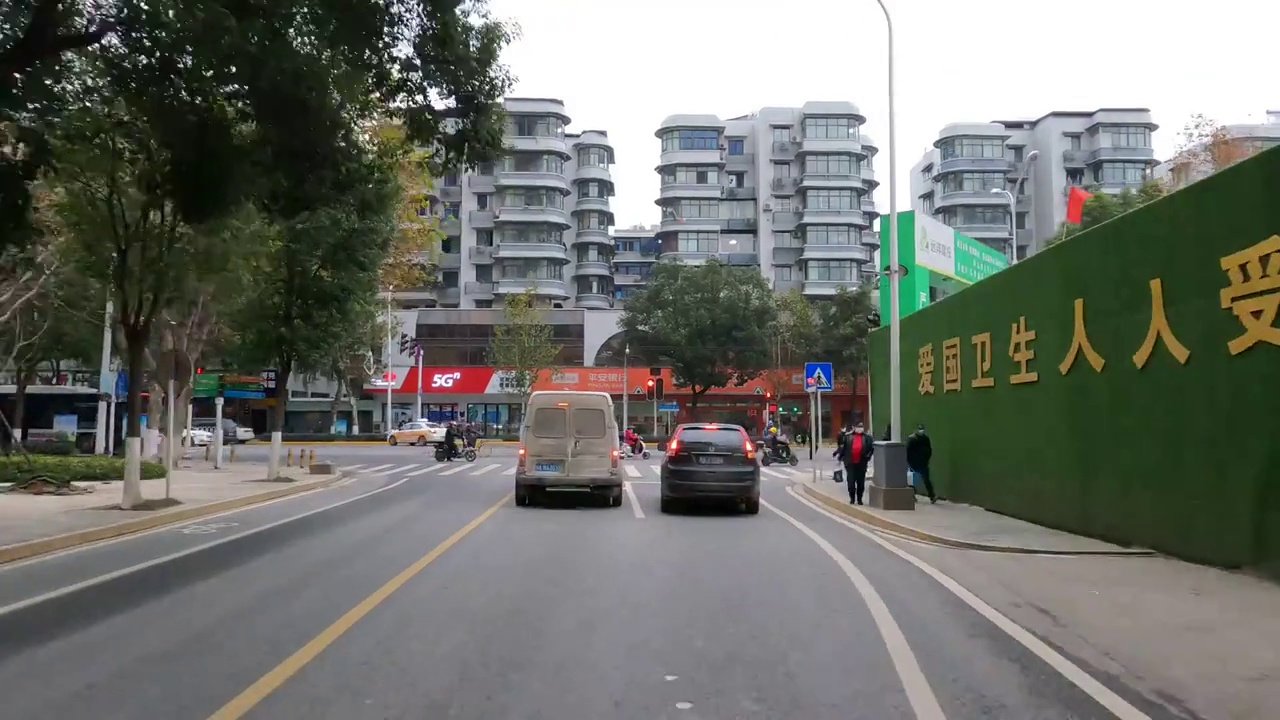lane: (214, 533, 478, 720), (882, 542, 1131, 720), (820, 541, 951, 720), (1, 529, 240, 616)
